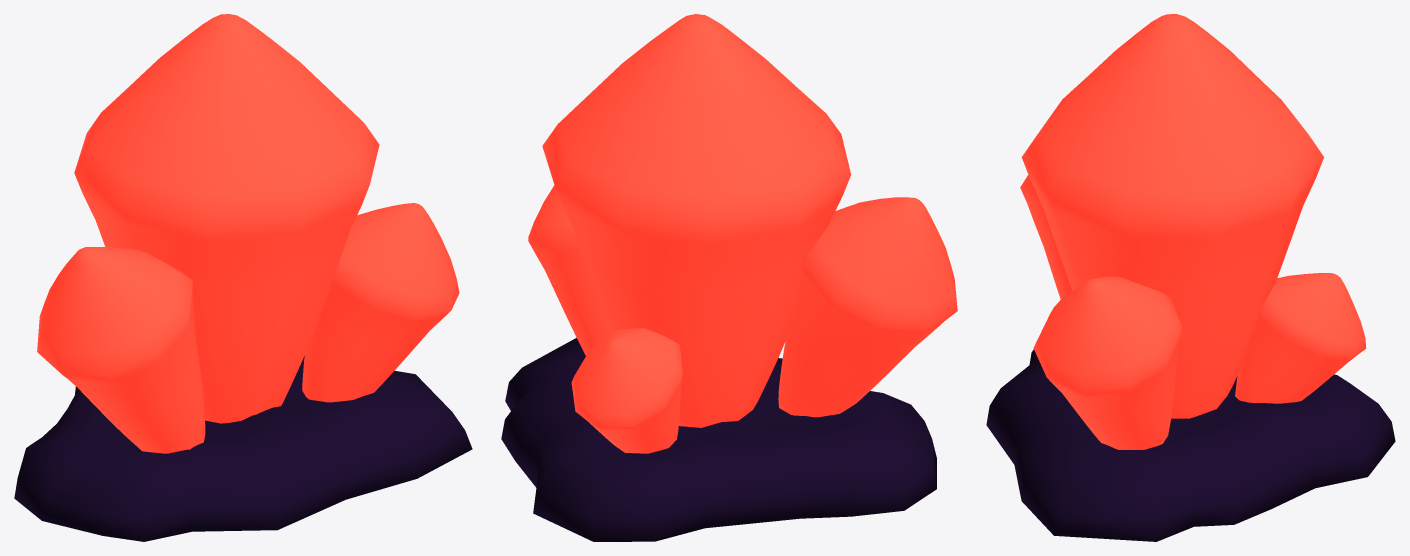
File: Cristal.fbx
3 renders of one model, left to right at view 1: azimuth 30°, elevation 25°; view 2: azimuth 150°, elevation 25°; view 3: azimuth 270°, elevation 25°, orthographic. The views are drawn at different scales.
Visible parts, largest first — view 1: Circle.005; view 2: Circle.005; view 3: Circle.005.
Boxes of the visible parts, x1,y1,x2,y2 form: Circle.005: (14, 14, 472, 541); Circle.005: (501, 14, 957, 541); Circle.005: (986, 14, 1395, 541).
Bounding box in the file's own units: 1.58 × 1.6 × 1.38.
